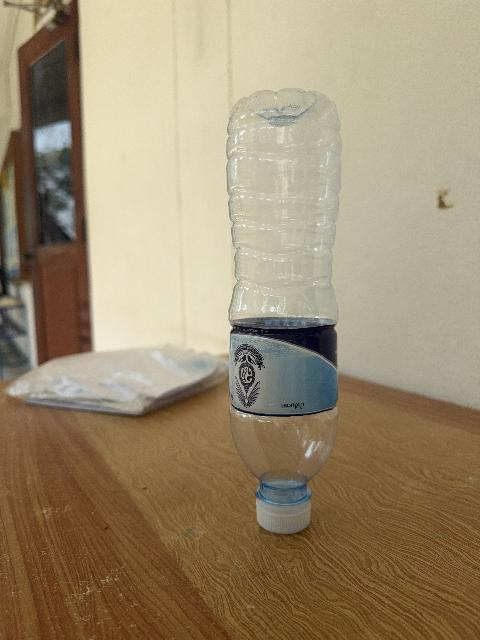bottle: (227, 90, 341, 533)
